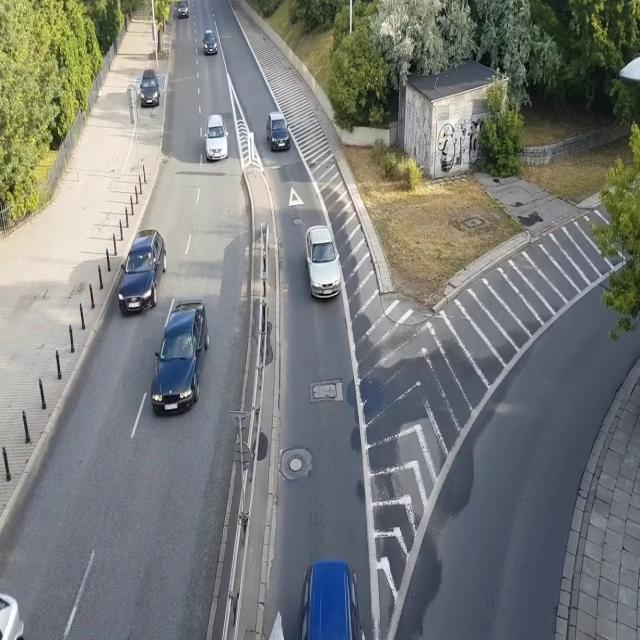car: (148, 300, 210, 415), (116, 228, 166, 318), (304, 223, 341, 303), (203, 111, 229, 162), (266, 110, 292, 154), (138, 62, 160, 108), (202, 25, 218, 56), (176, 0, 189, 19)
